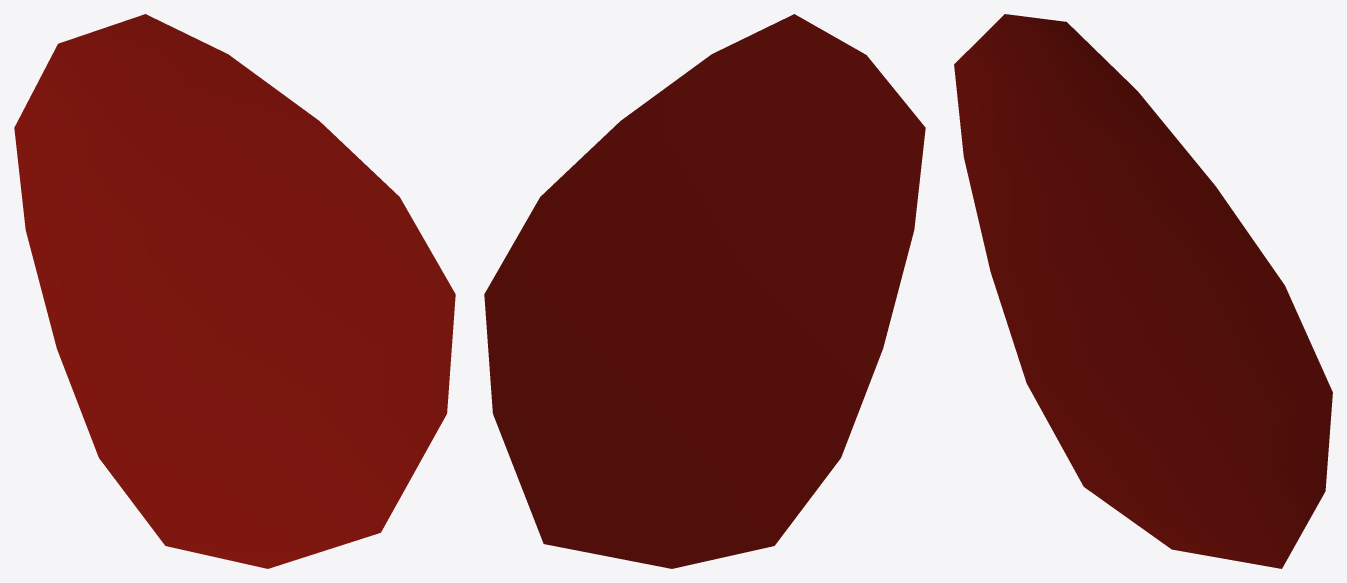
File: ara_feather_flight_tertiary_056.obj
The picture shows the model from 3 angles, left to right: view 1: azimuth 30°, elevation 25°; view 2: azimuth 150°, elevation 25°; view 3: azimuth 330°, elevation 25°; orthographic projection. The views are drawn at different scales.
Visible parts, largest first — view 1: feather_flight_tertiary_056; view 2: feather_flight_tertiary_056; view 3: feather_flight_tertiary_056.
Part boxes in pixels (x1,y1,x2,y2): feather_flight_tertiary_056: (14,14,455,568); feather_flight_tertiary_056: (484,14,925,568); feather_flight_tertiary_056: (954,14,1332,568).
Size of the model in its own units: 0.024 by 0.0304 by 0.000725.
